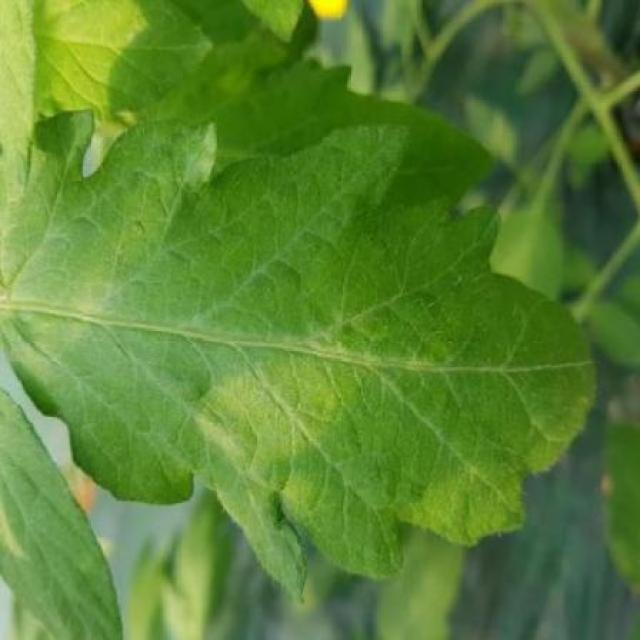Healthy: (0, 109, 597, 582)
